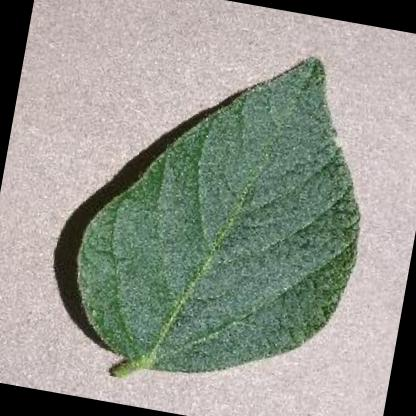soy: (40, 14, 403, 416)
